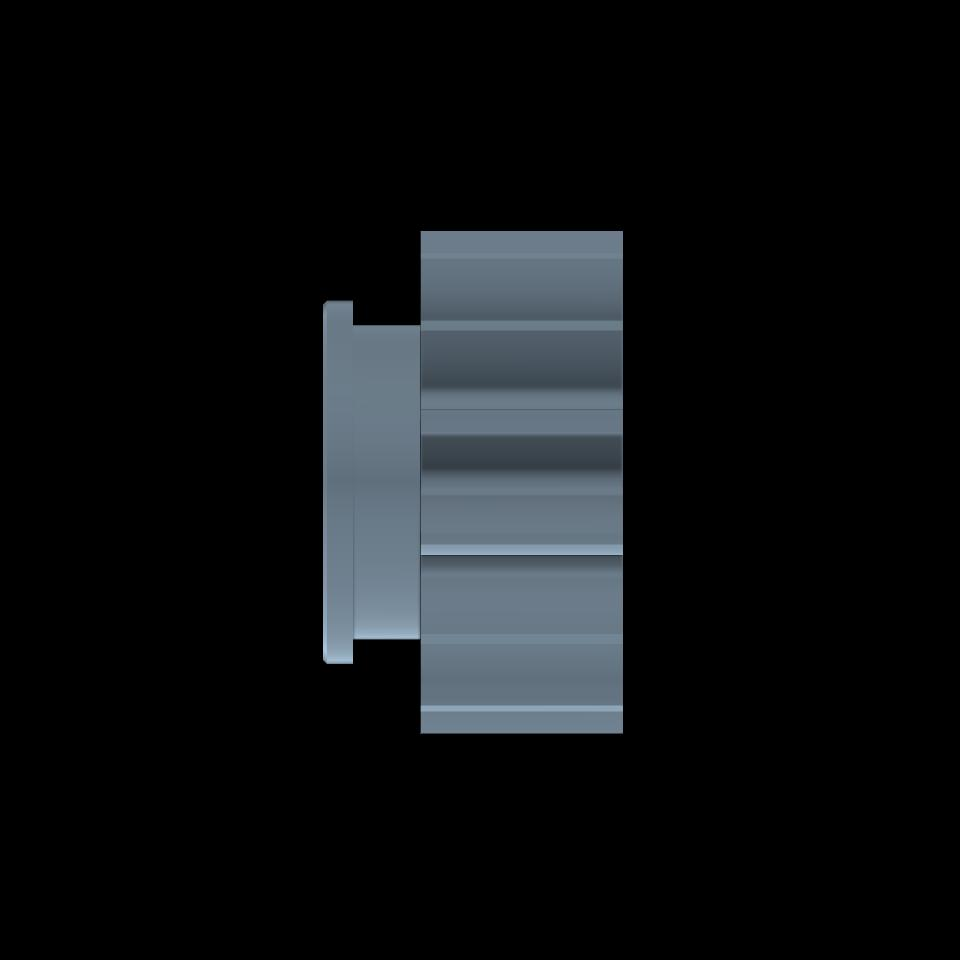Straight: (420, 230, 623, 731)
